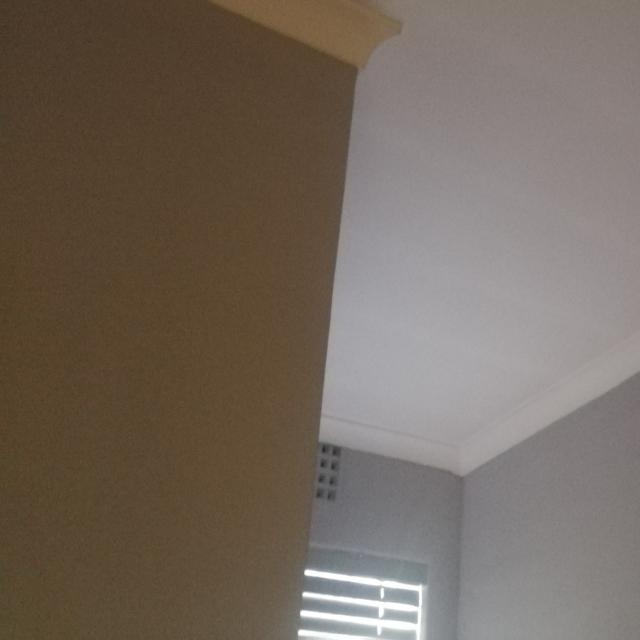fluorescent tube: (255, 0, 640, 173)
